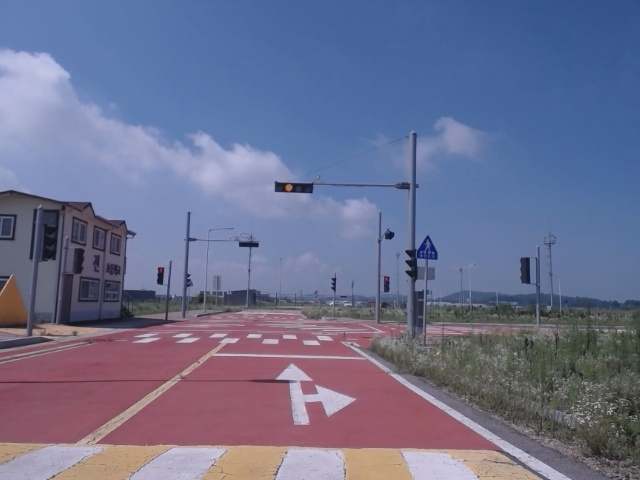orange_4: (276, 182, 313, 194)
